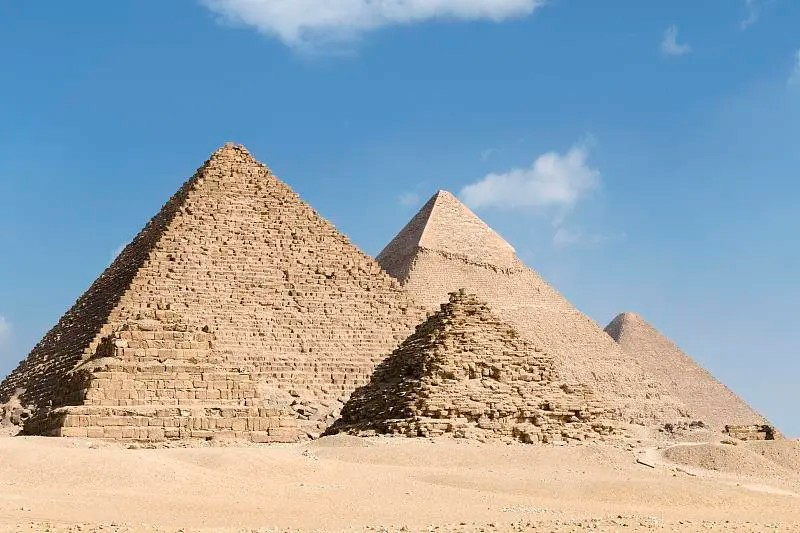Pyramid: (1, 142, 438, 431), (376, 190, 720, 437), (328, 289, 630, 437), (21, 297, 304, 440), (603, 311, 778, 438)
